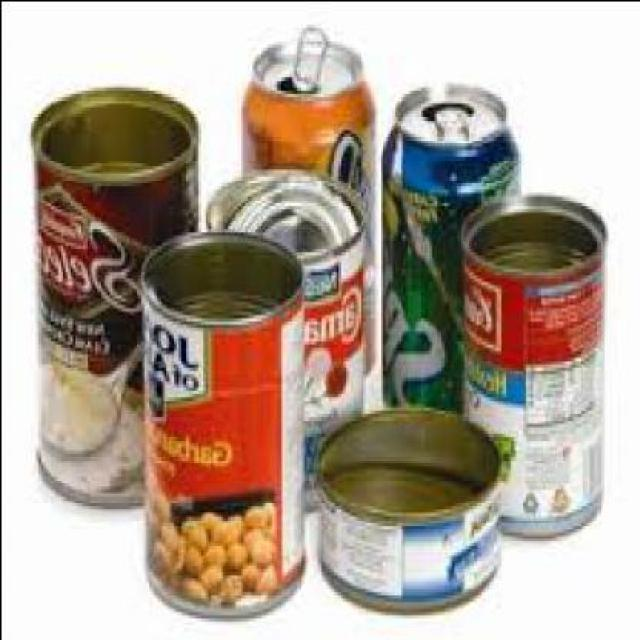METAL: (35, 83, 202, 505), (146, 224, 306, 614), (206, 162, 369, 516), (462, 188, 606, 530), (240, 19, 374, 373), (382, 76, 520, 416), (320, 402, 500, 613)
